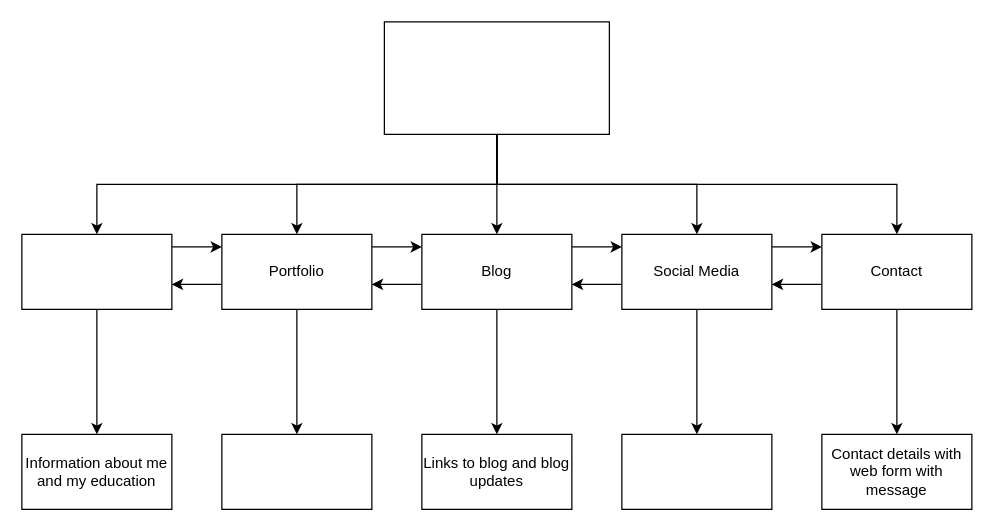
Some shapes in this 994 by 531 pixel diagram are drawn without their labels. The shapes that lost their labels are listed below. From the top down, each one's centre as x and y in pixels, then its label:
At [496,77]: "Home Page".
At [96,271]: "About".
At [296,471]: "Portfolio and links to previous projects".
At [696,471]: "Links to all social media".
